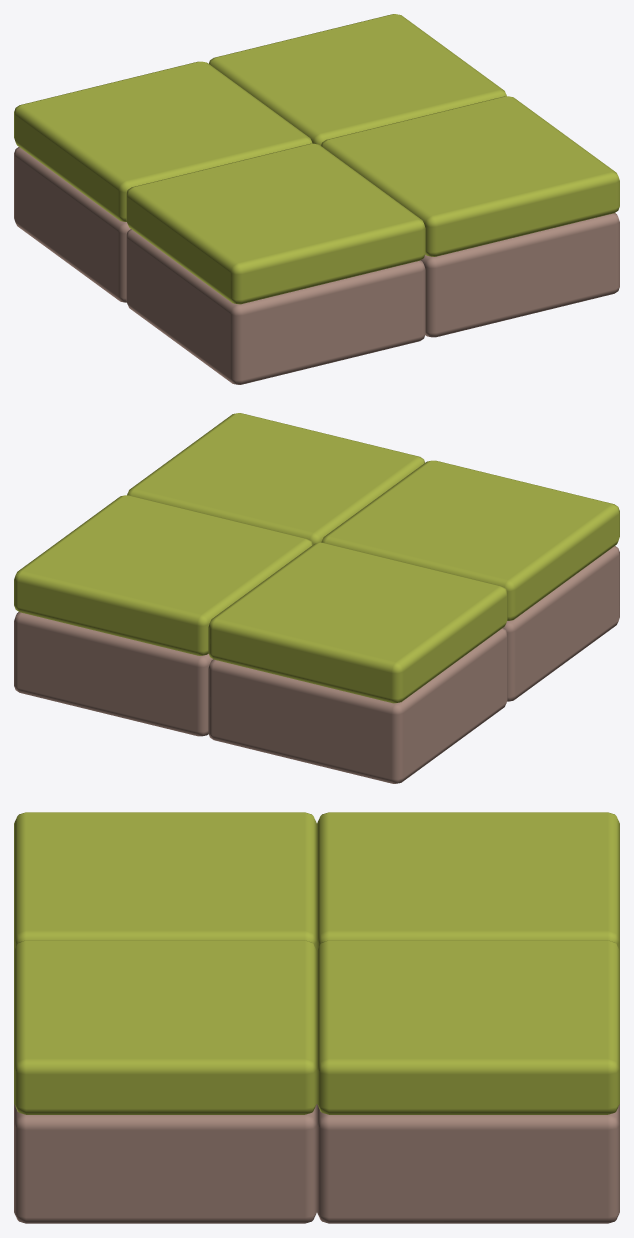
The picture shows the model from 3 angles, top to bottom: view 1: azimuth 30°, elevation 25°; view 2: azimuth 150°, elevation 25°; view 3: azimuth 270°, elevation 25°; orthographic projection. The views are drawn at different scales.
Visible parts, largest first — view 1: Cube.263; view 2: Cube.263; view 3: Cube.263.
Part boxes in pixels (bbox=[...]): Cube.263: bbox=[14, 14, 619, 384]; Cube.263: bbox=[14, 413, 619, 783]; Cube.263: bbox=[14, 812, 619, 1223].
Bounding box in the file's own units: 2 × 0.6001 × 2.
1 material, 1 textured.
